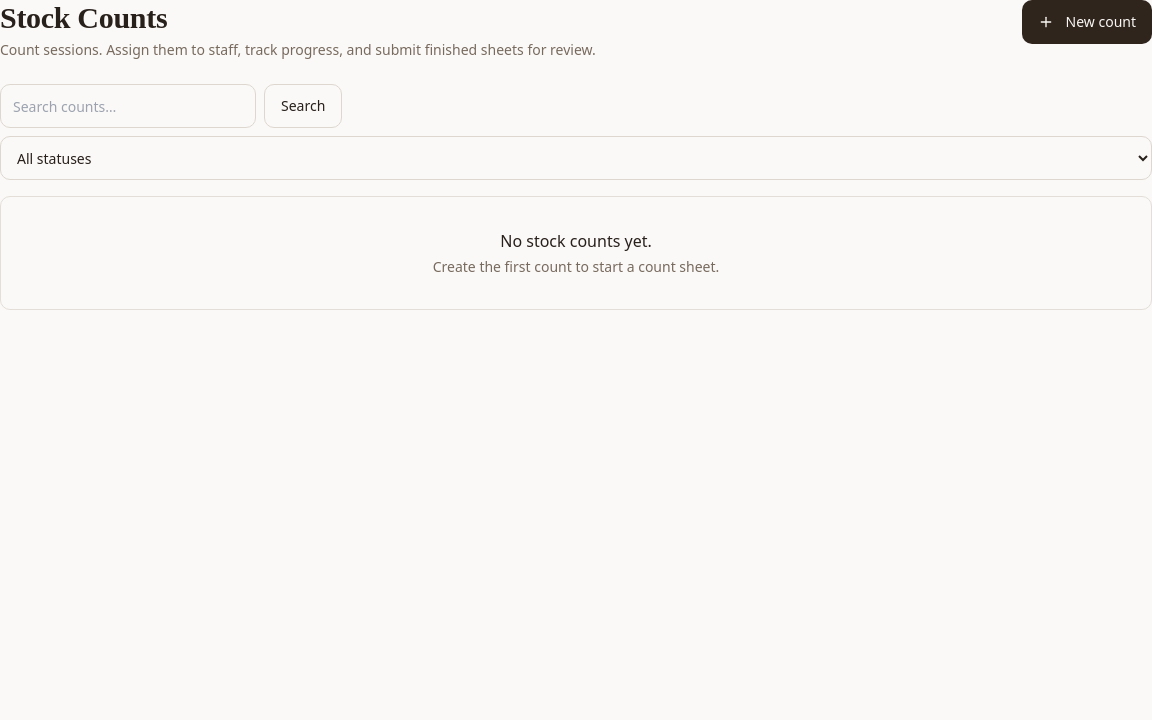
StockCountsPage › shows a validation error for a blank title
Click the button "New count". click: (1087, 22)
box: 1022,0 -> 1151,44
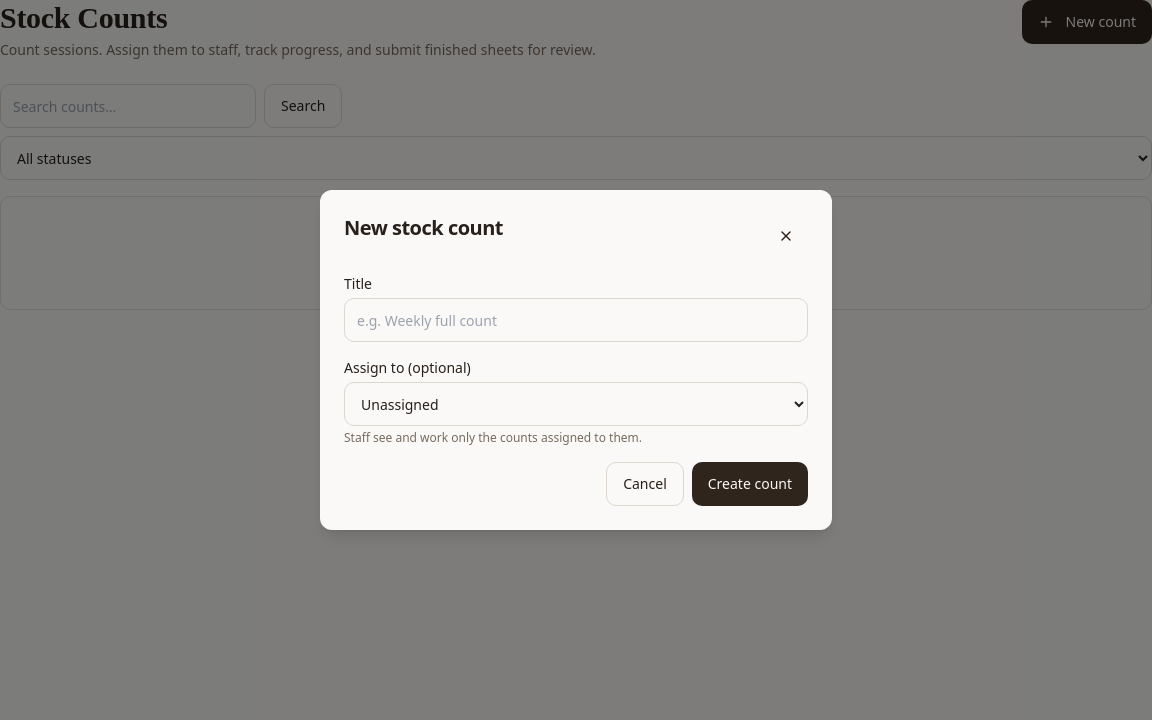
Click the button "Create count". click: (750, 484)
box: 692,462 -> 808,506
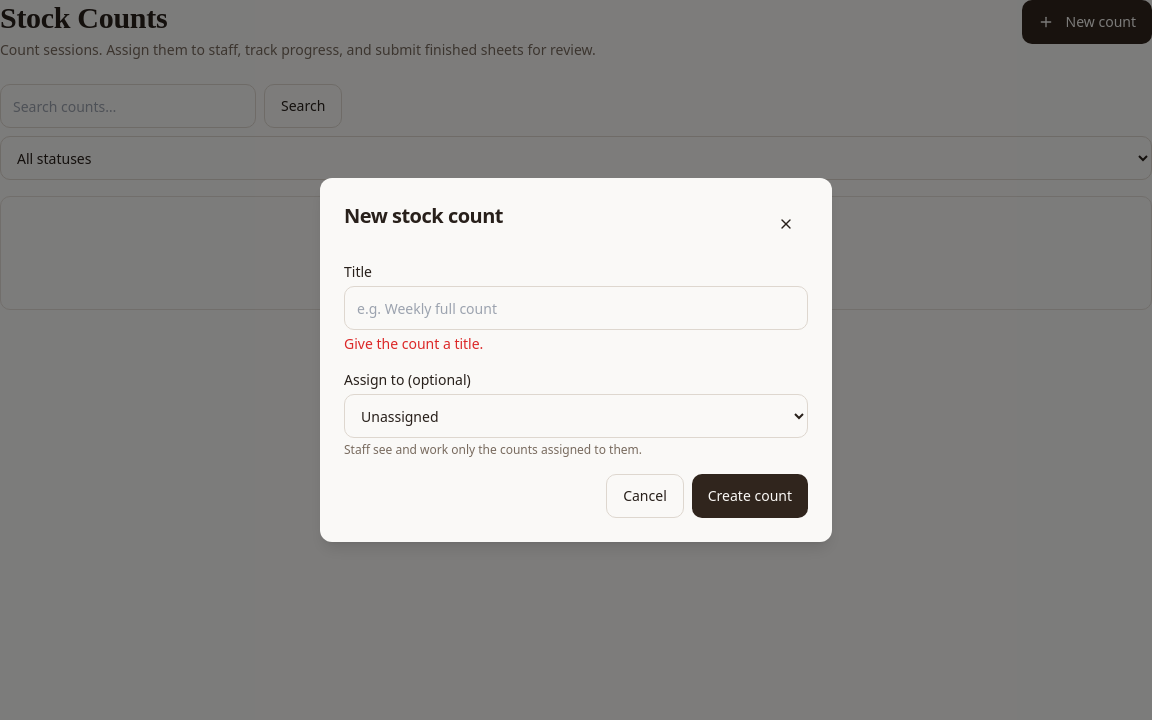
Now the text "Give the count a title." is shown, box 344,334 -> 483,353
